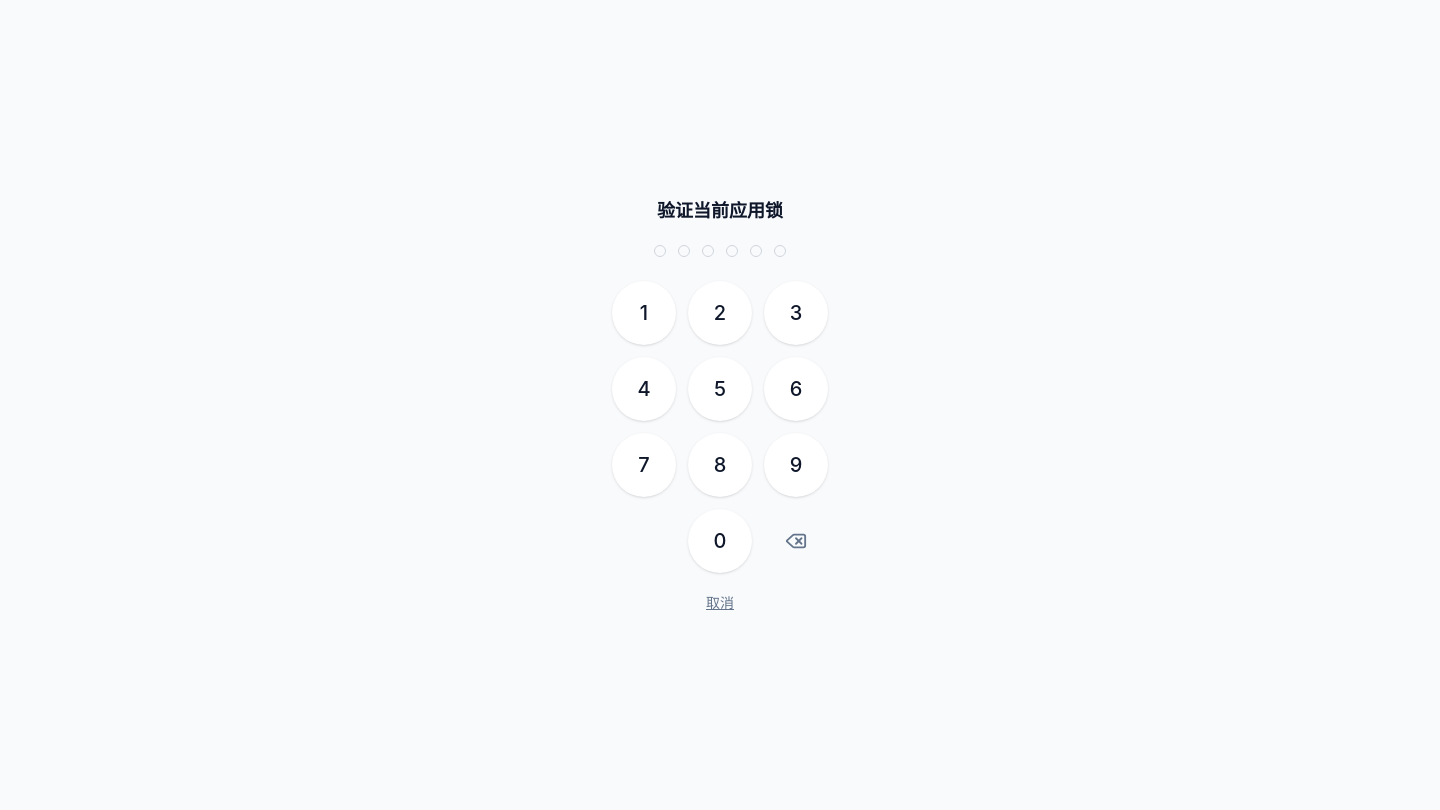
SetLockDialog › mode=change 时先要求验证旧锁
This screenshot has width=1440, height=810.
Click the button "1". click: (644, 313)
box: [612,281,676,345]
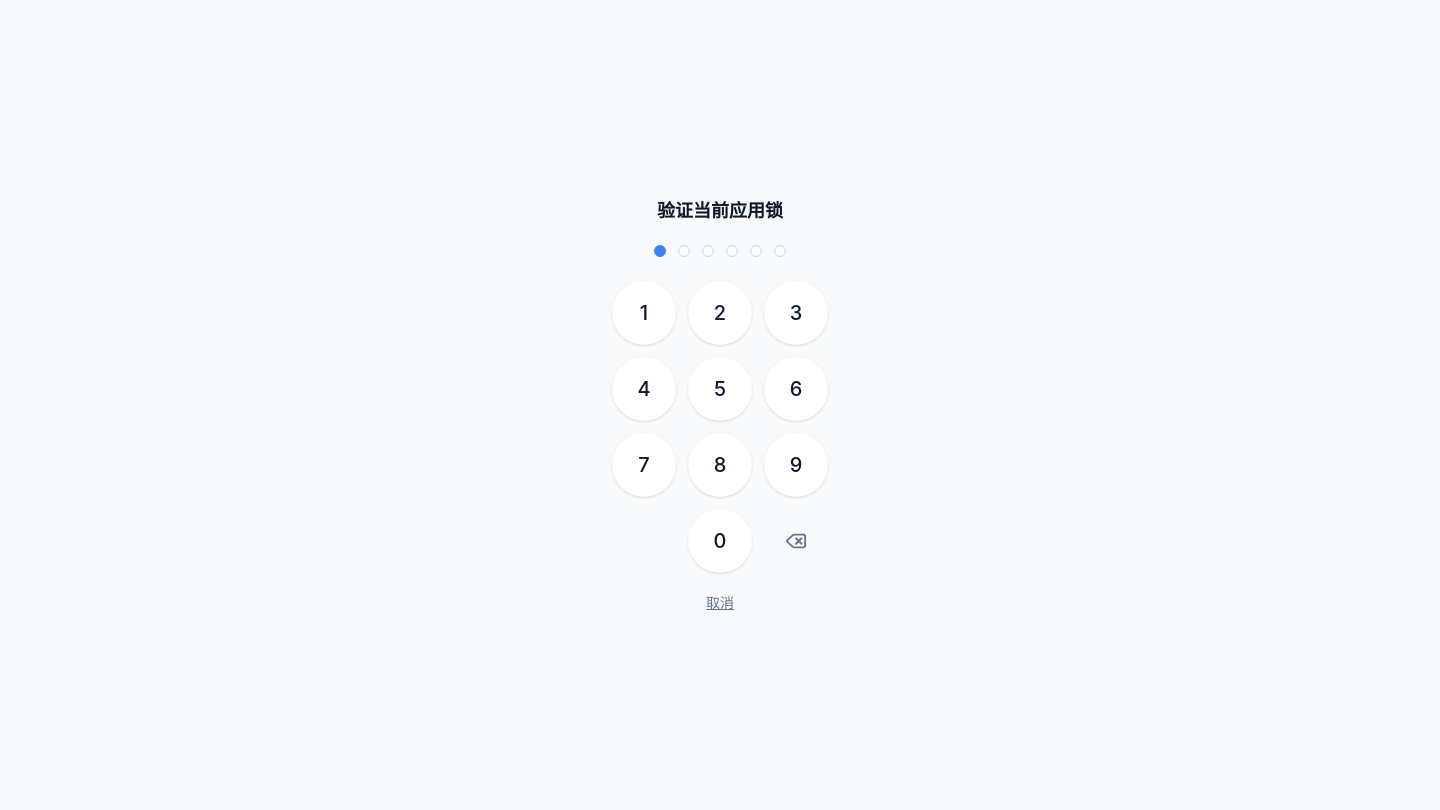
Click the button "9". click: (796, 465)
box: [764,433,828,497]
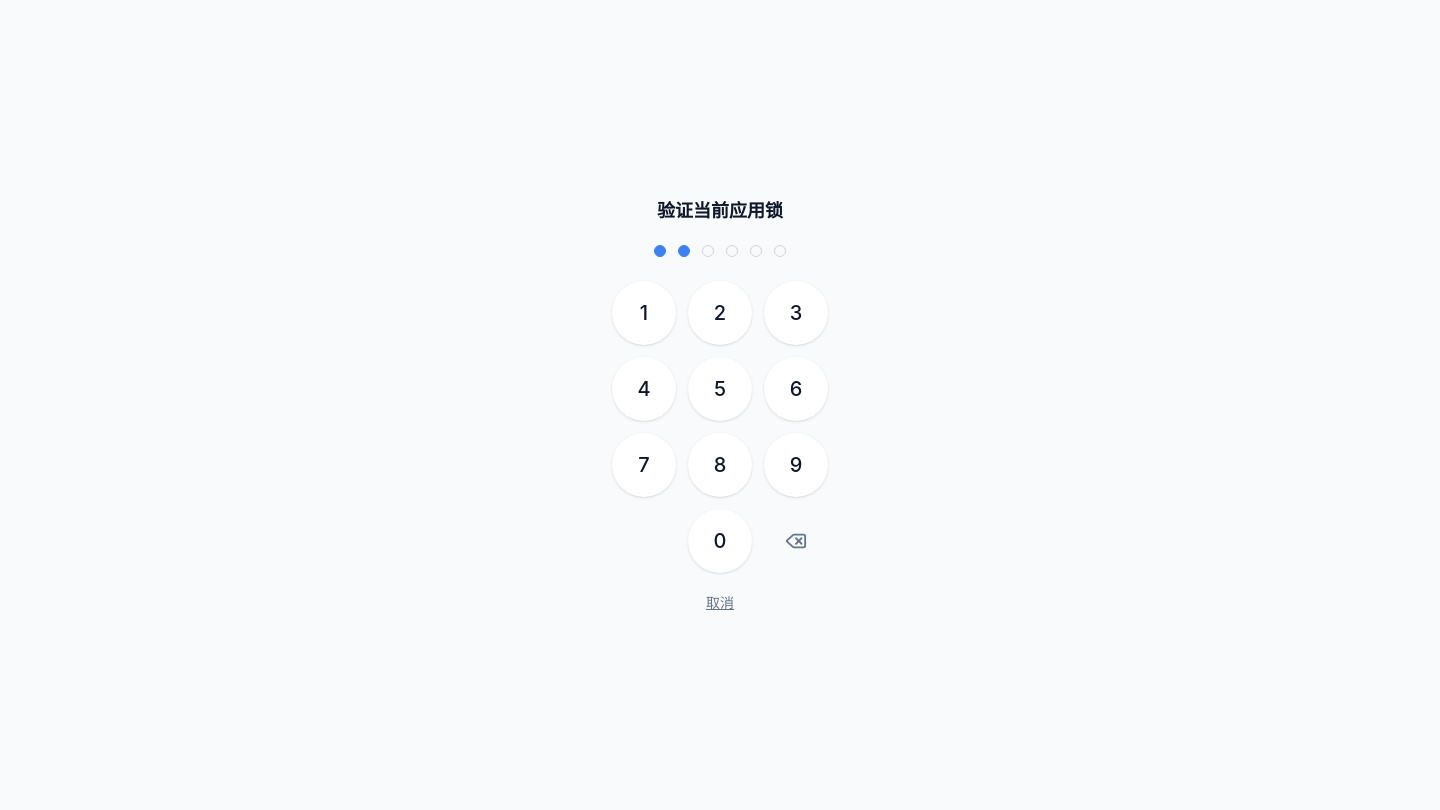
Click the button "4". click: (644, 389)
box: [612,357,676,421]
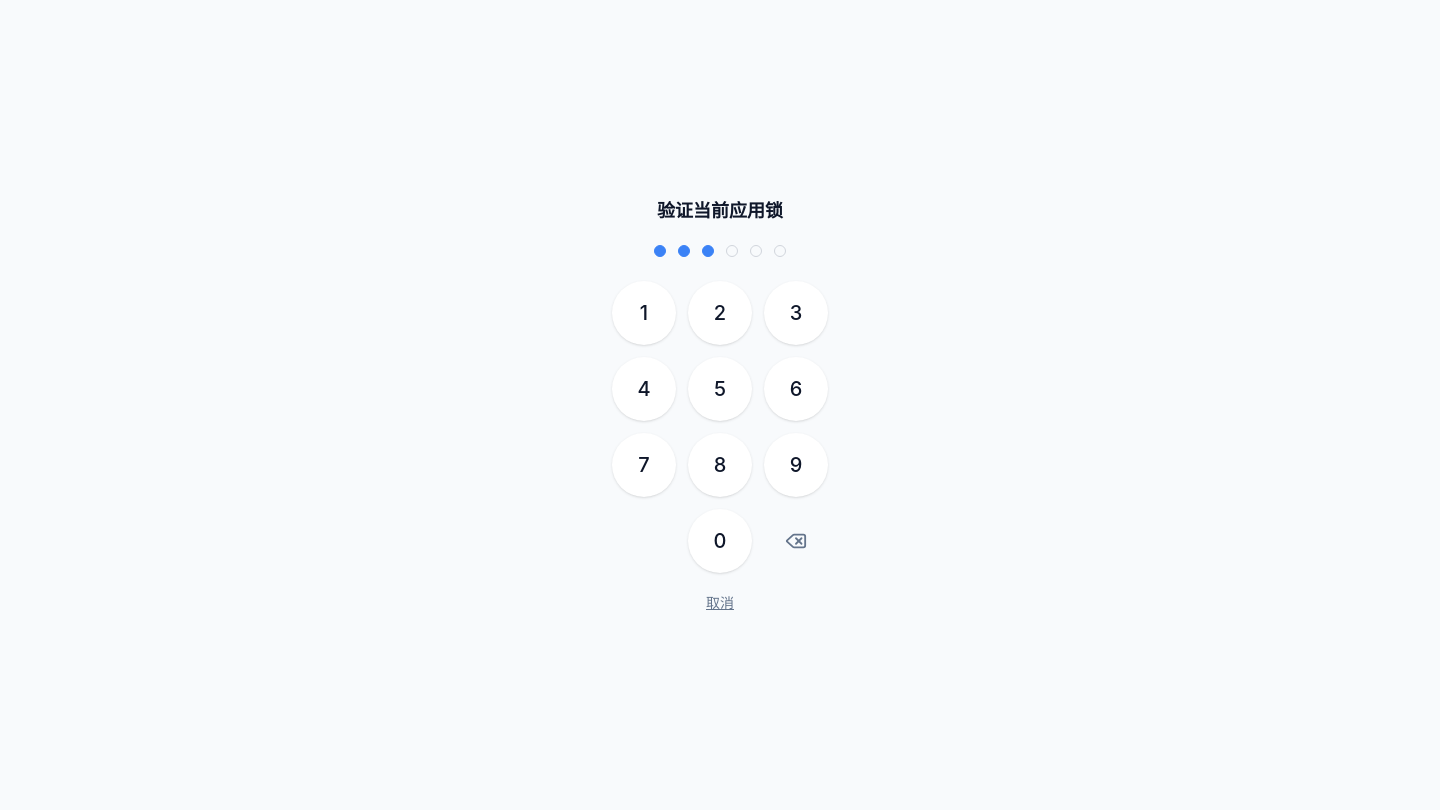
Click the button "7". click: (644, 465)
box: [612,433,676,497]
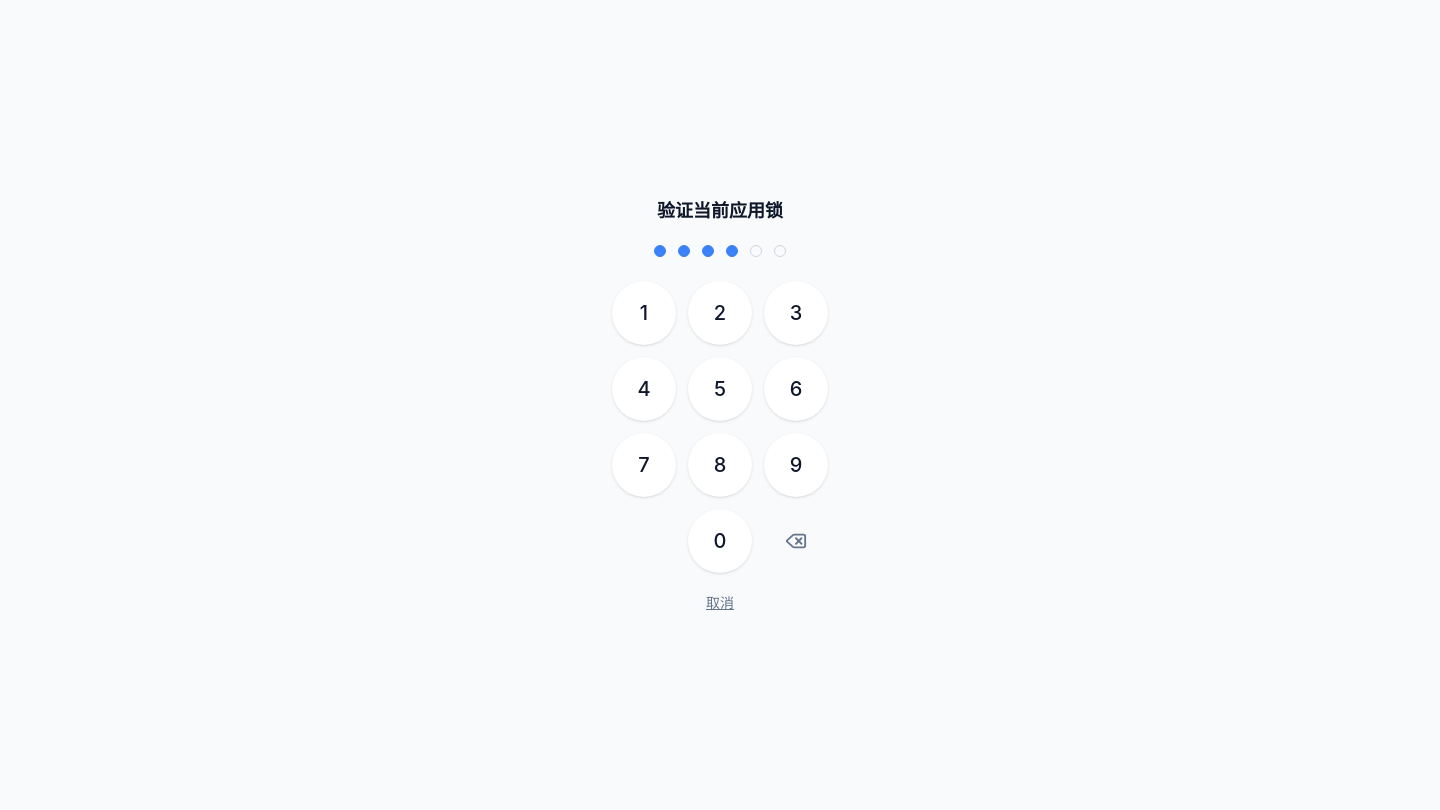
Click the button "2". click: (720, 313)
box: [688,281,752,345]
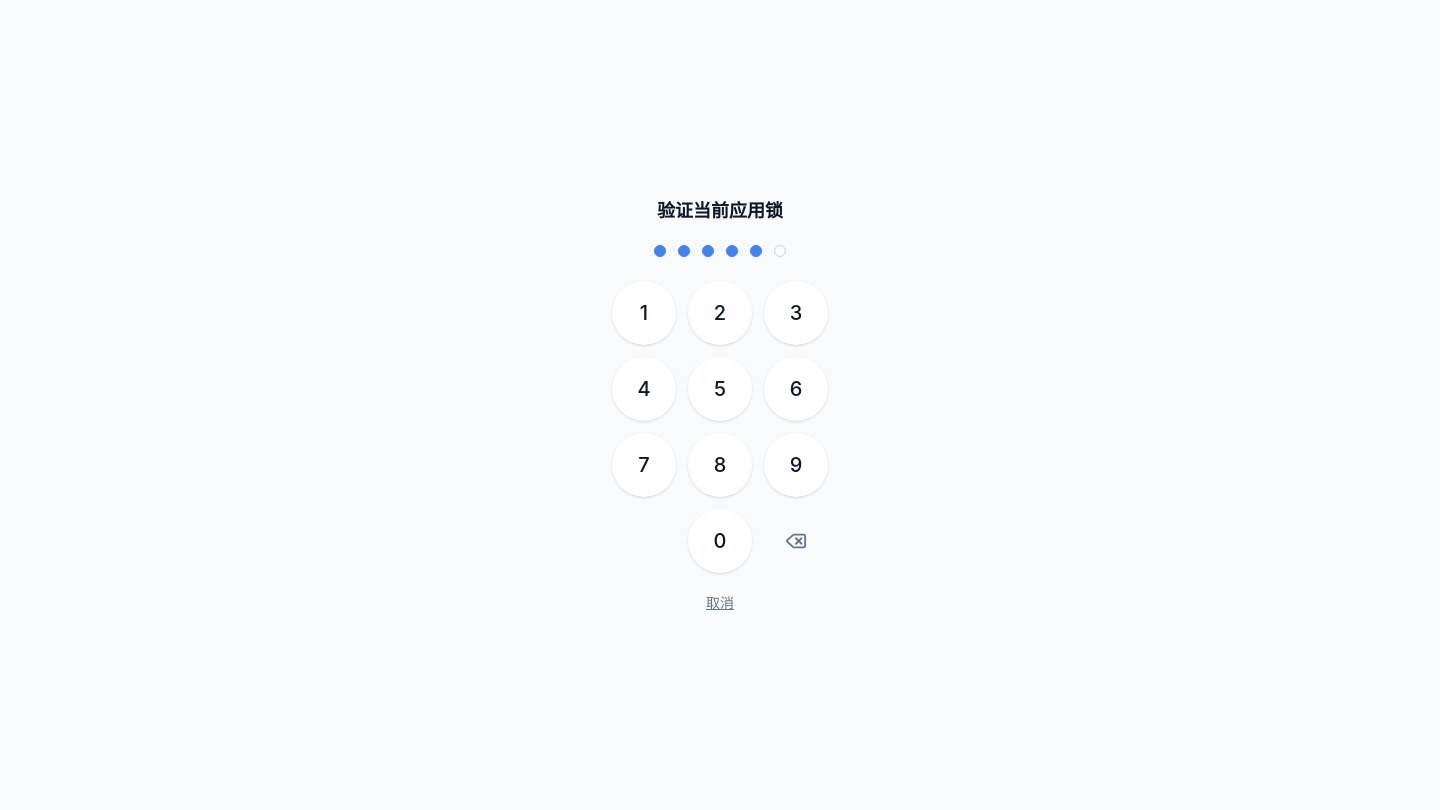
Click the button "6". click: (796, 389)
box: [764,357,828,421]
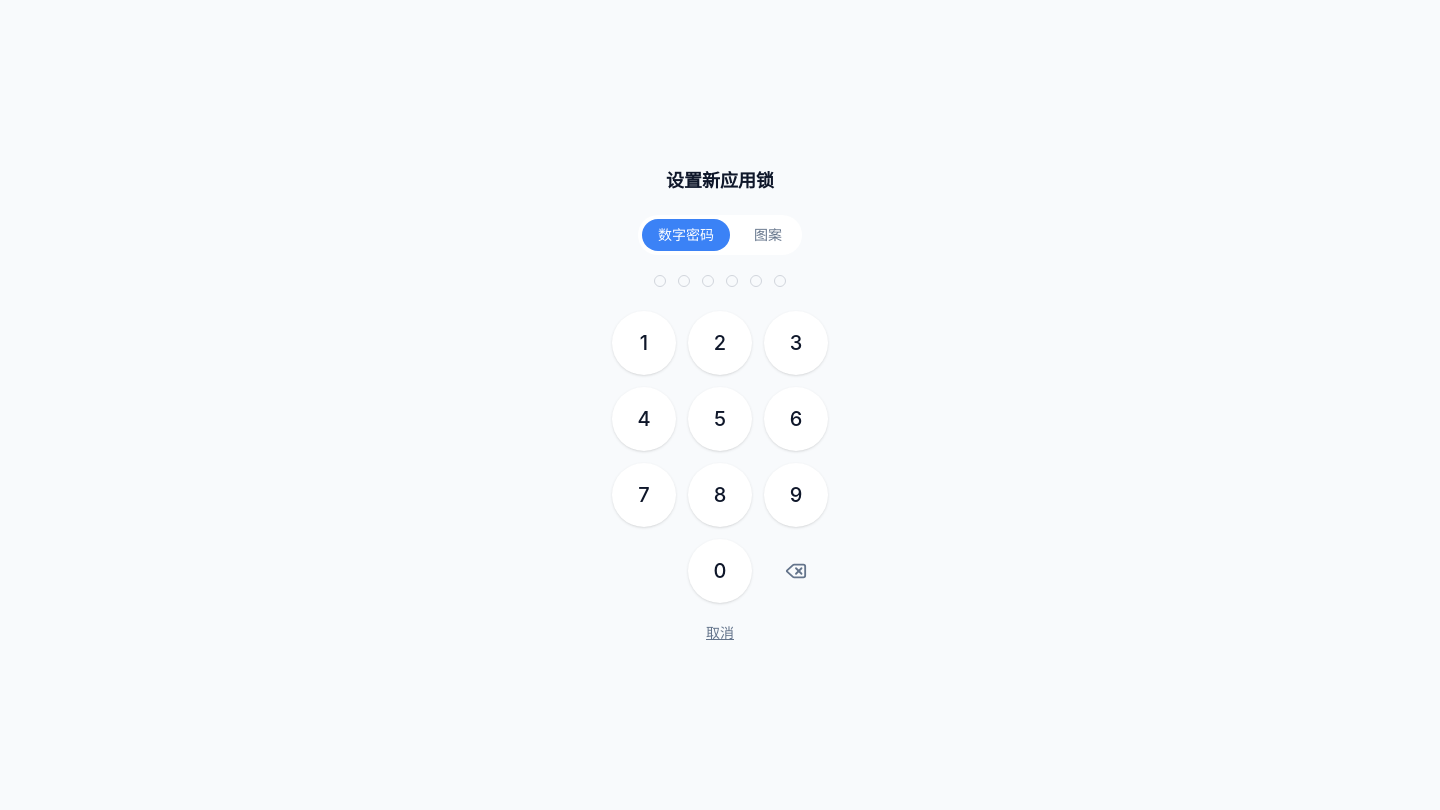
Result: the text "设置新应用锁" is shown at [666,167,774,195]
